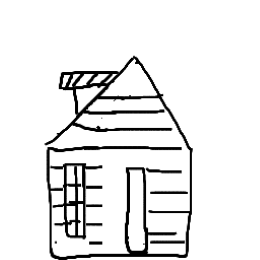bottom_placed_house: (6, 3, 260, 260)
chimney: (57, 65, 128, 123)
closed_window: (61, 159, 94, 244)
door: (122, 160, 160, 259)
roof: (32, 49, 211, 154)
wall: (40, 140, 204, 260)
